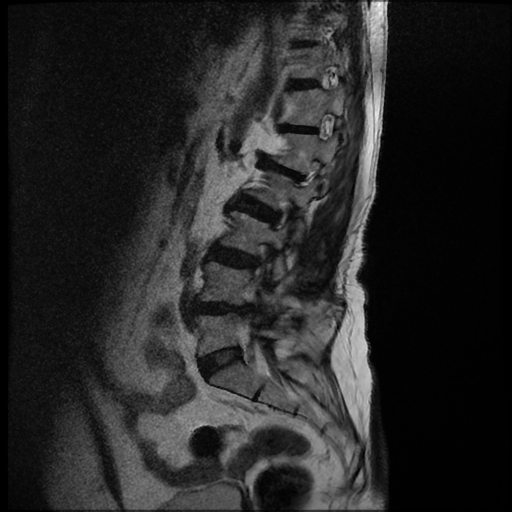LFS0: (286, 149, 328, 194)
LFS1: (262, 192, 303, 240)
